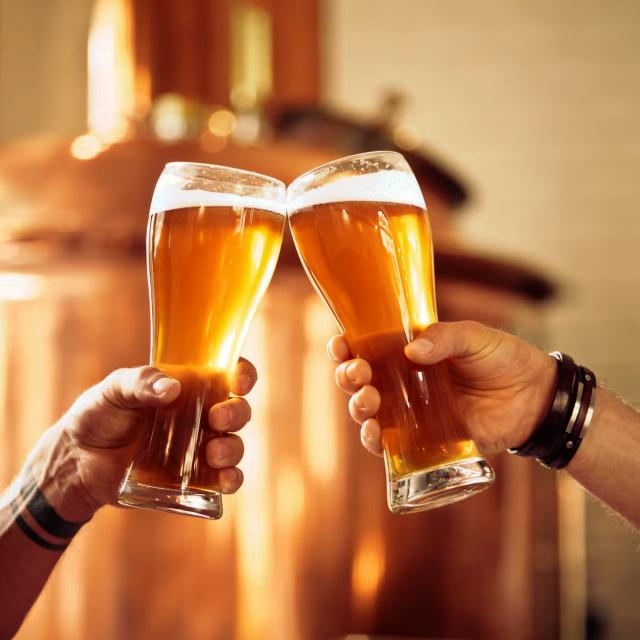drink: (282, 149, 492, 514), (122, 157, 284, 518)
